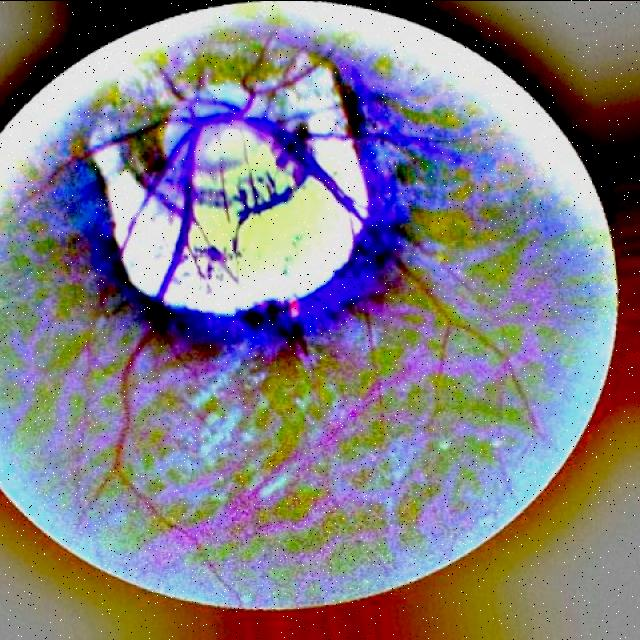Optic Disk: (89, 52, 368, 315)
